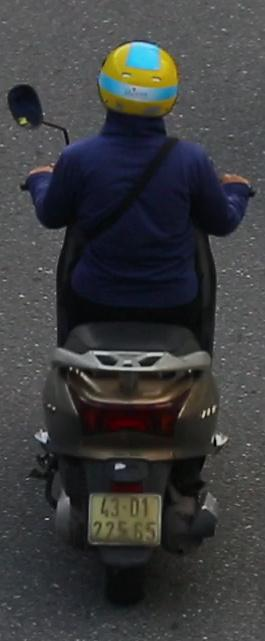LP: (83, 487, 166, 550)
helmet: (96, 34, 183, 145)
